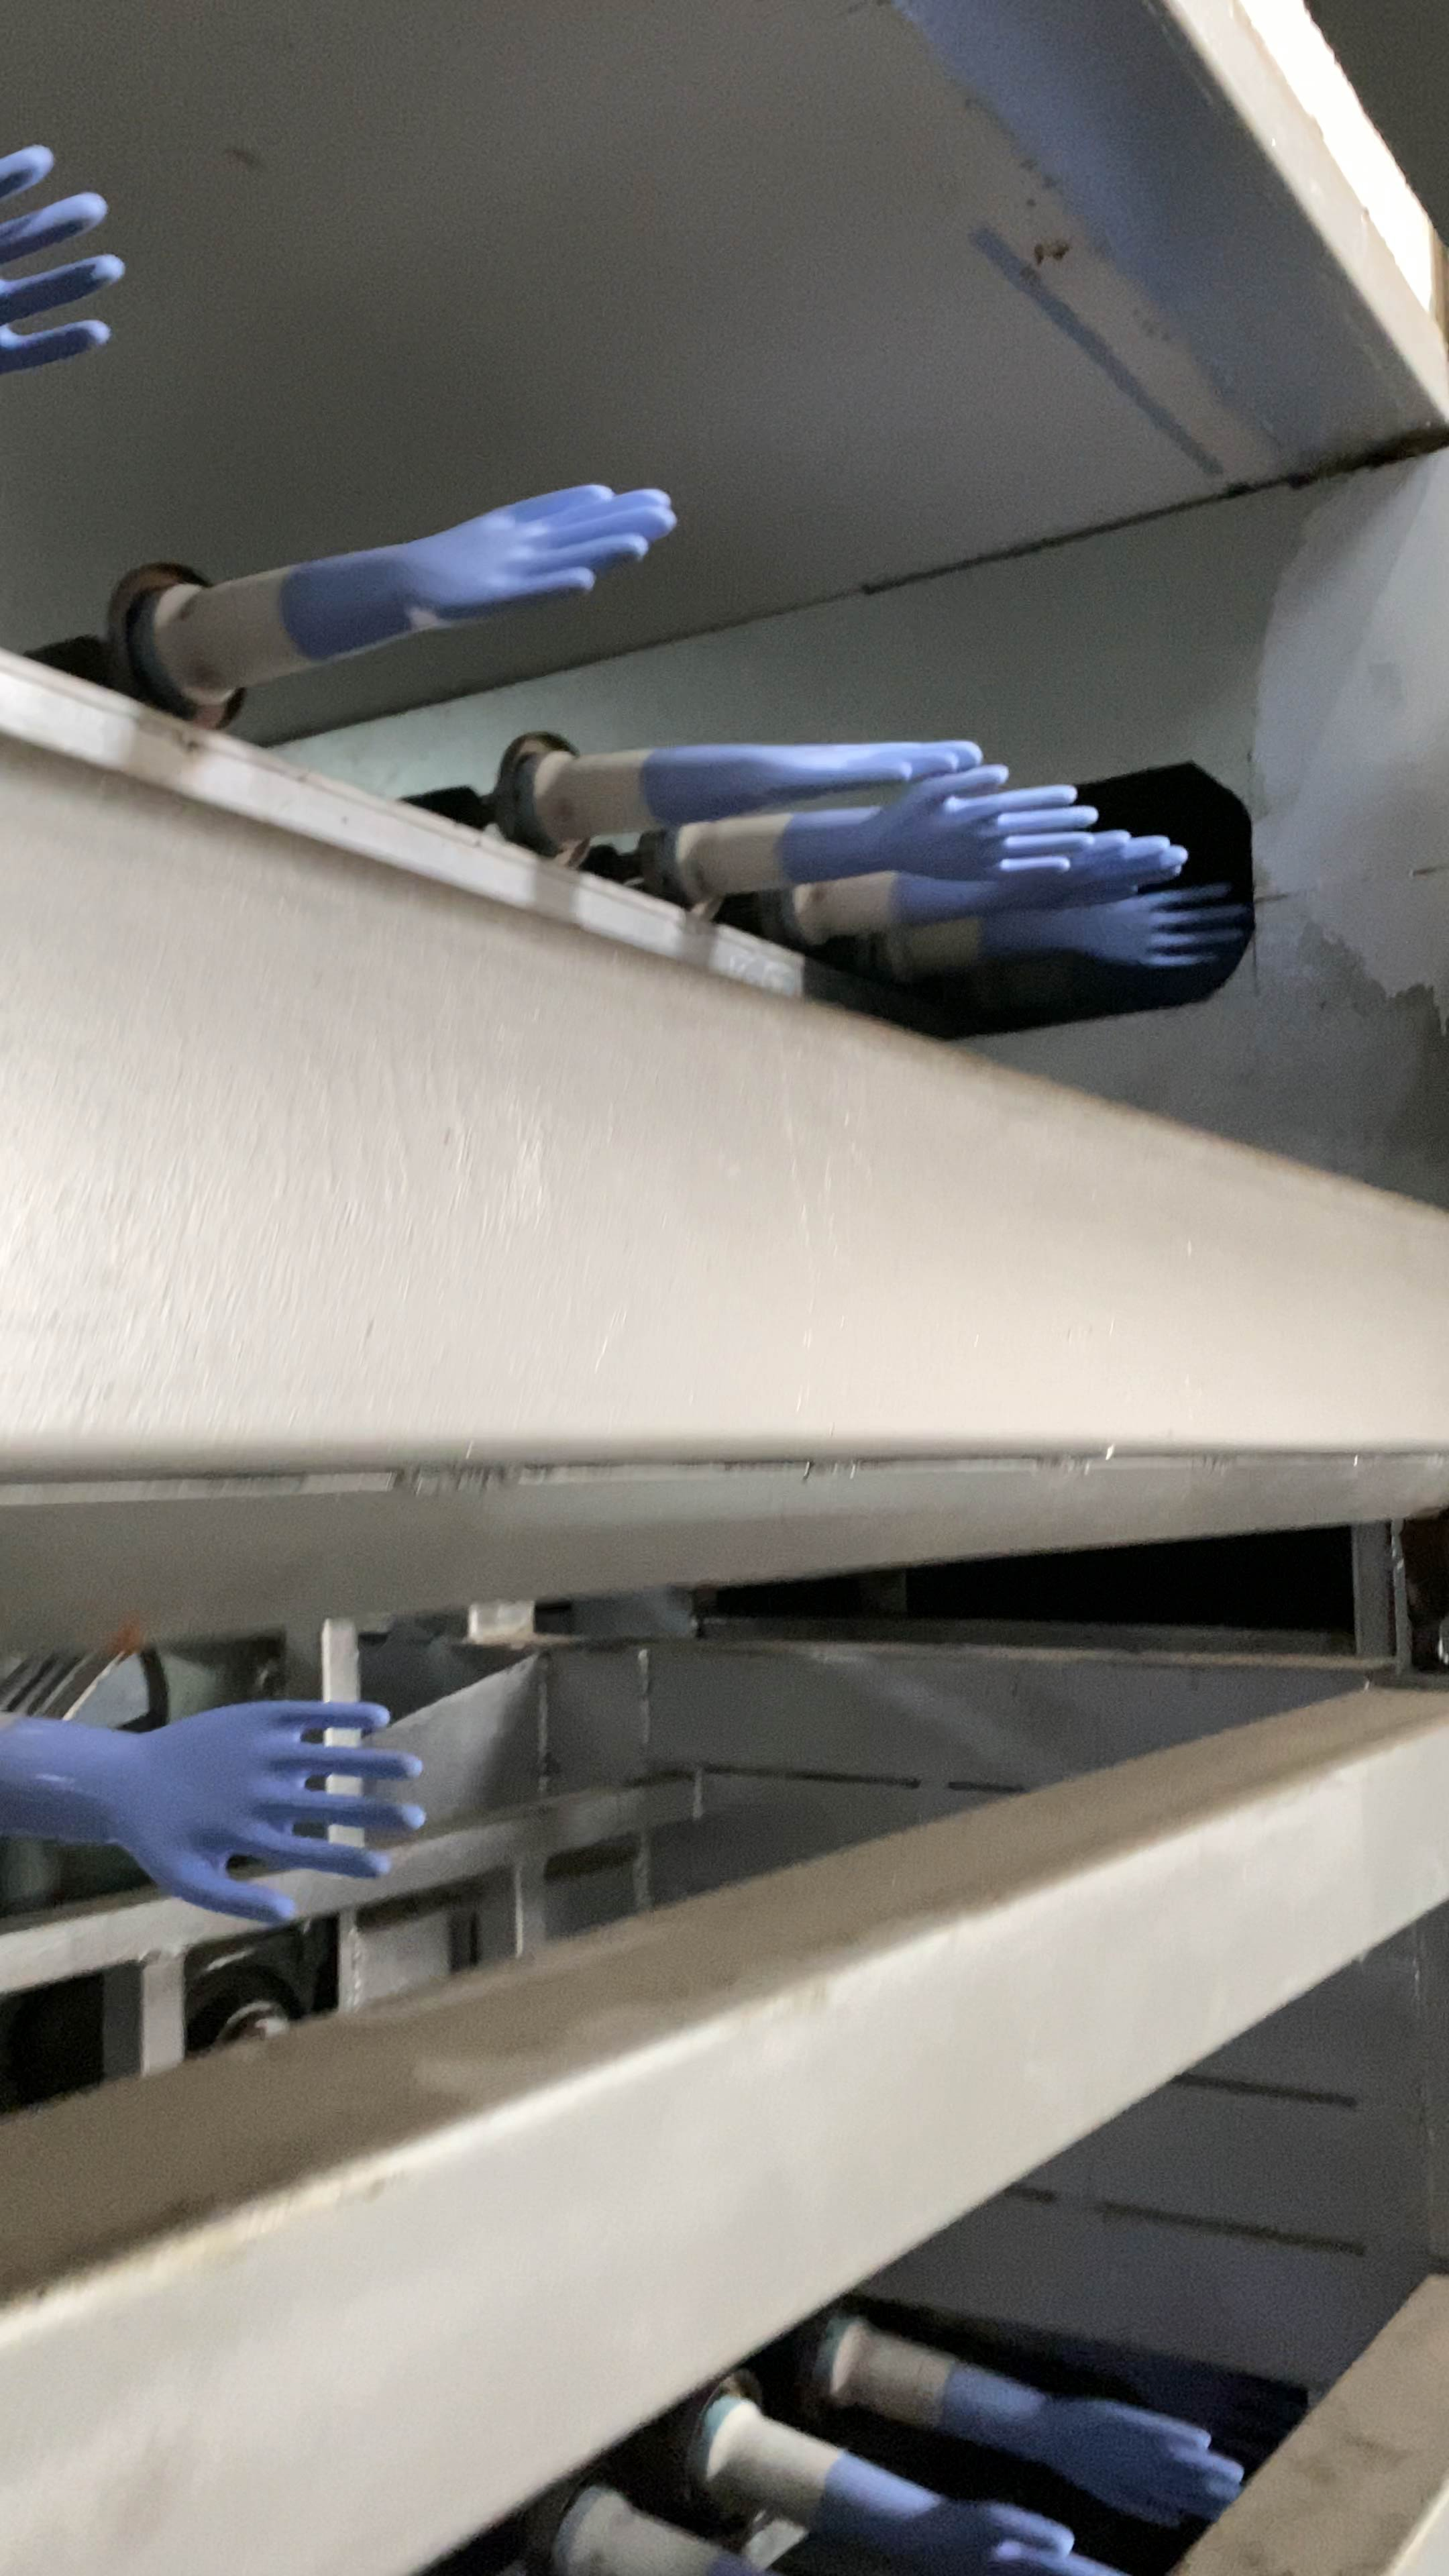glove: (0, 1700, 425, 1930), (278, 485, 678, 640), (941, 2362, 1242, 2526), (807, 2450, 1132, 2576), (780, 763, 1097, 881), (0, 142, 126, 375), (640, 740, 984, 824), (883, 828, 1187, 911), (980, 881, 1242, 964)
